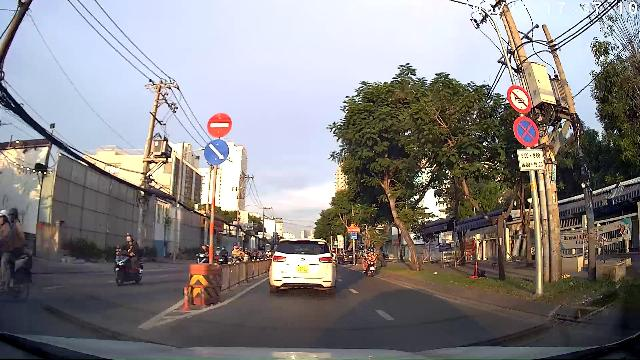128-cam-su-dung-coi: (508, 86, 532, 114)
130-cam-dung-va-do-xe: (514, 116, 538, 146)
